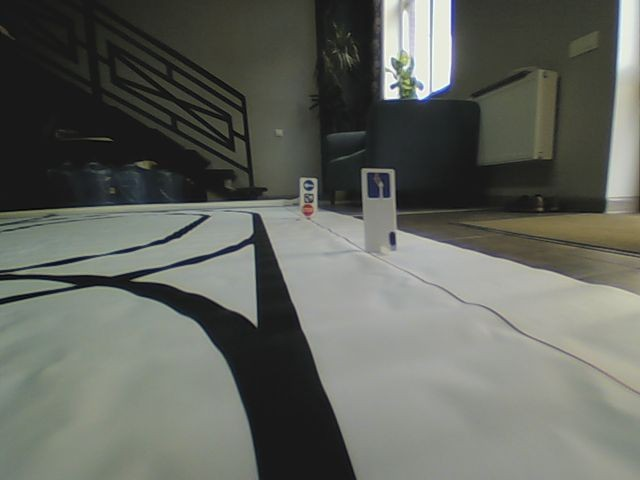priority_movement: (367, 172, 391, 198)
